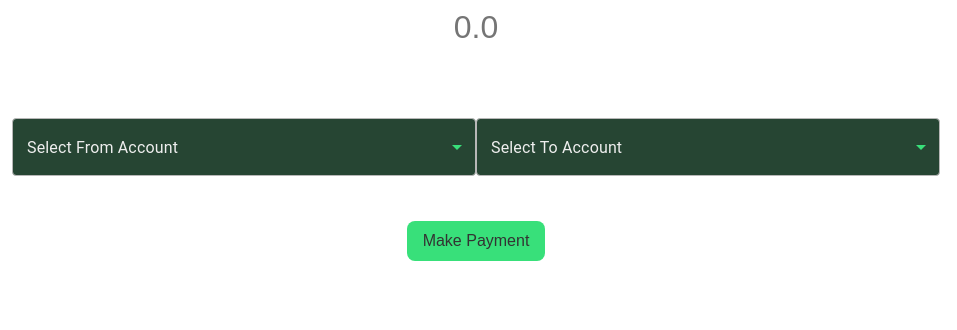
Test: PaymentPage Component › renders account numbers in dropdowns
Note: Click to open one of the selects
Press the mouse on the dropdown labelled "Select From Account": (244, 147) [12,118,476,176]
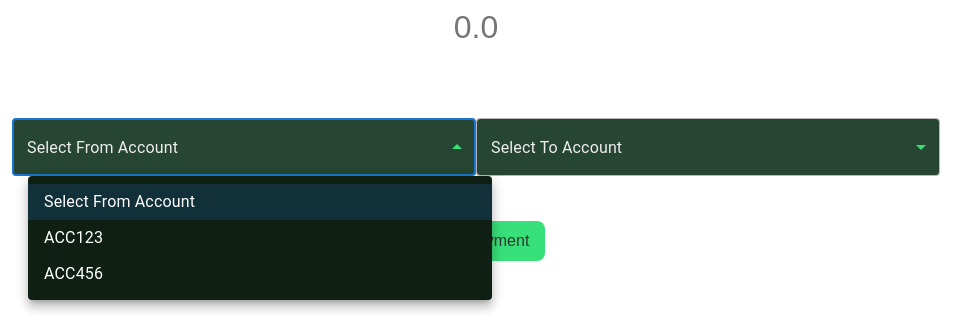
Now the option "ACC123" is shown, box [44,228,103,247]
Now the option "ACC456" is shown, box [44,264,103,283]
